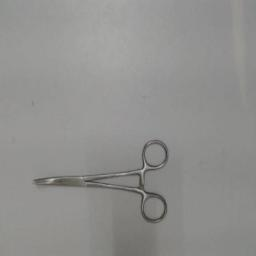Crile Artery Forceps: (28, 134, 172, 230)
